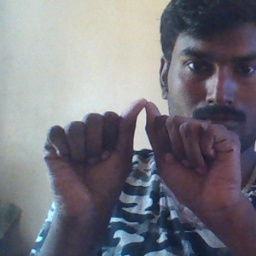A: (62, 97, 230, 205)
